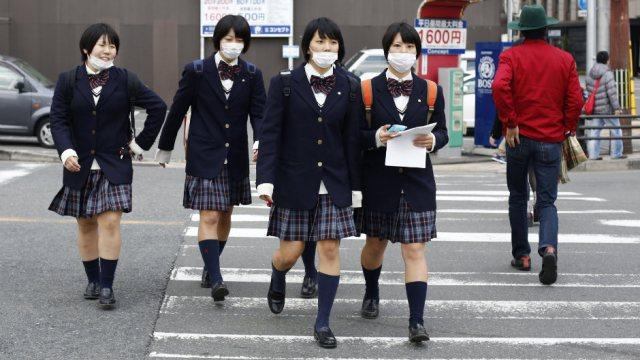OK: (219, 32, 245, 62)
WRONG: (384, 40, 417, 73), (311, 34, 343, 66), (91, 39, 117, 71)
